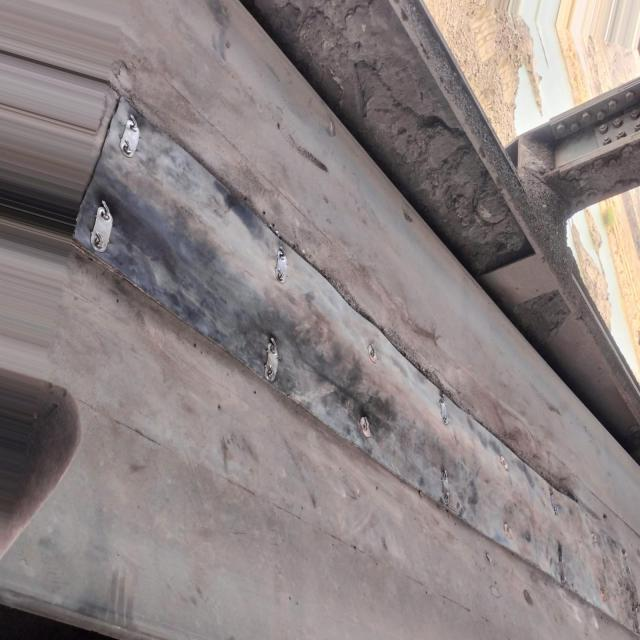patch work: (63, 82, 640, 640)
